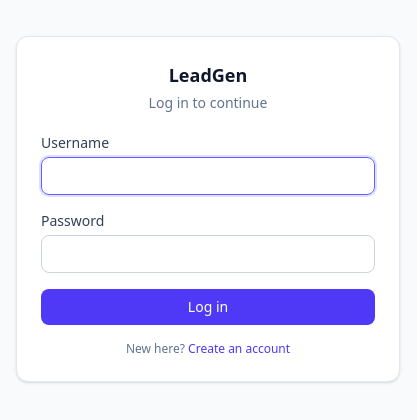
Test: Login form validation › shows required errors on an empty submit
Click the button "Log in". click: (208, 307)
box: [41,289,375,325]
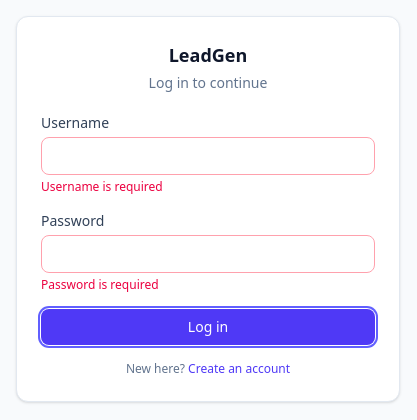
Expected: the text "Username is required" is shown, [41,178,163,195]
Expected: the text "Password is required" is shown, [41,276,159,293]
